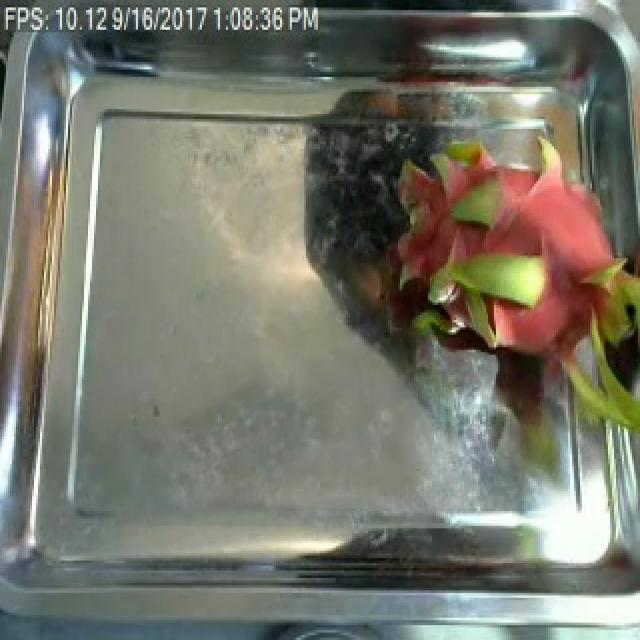fruit: (358, 94, 640, 447)
